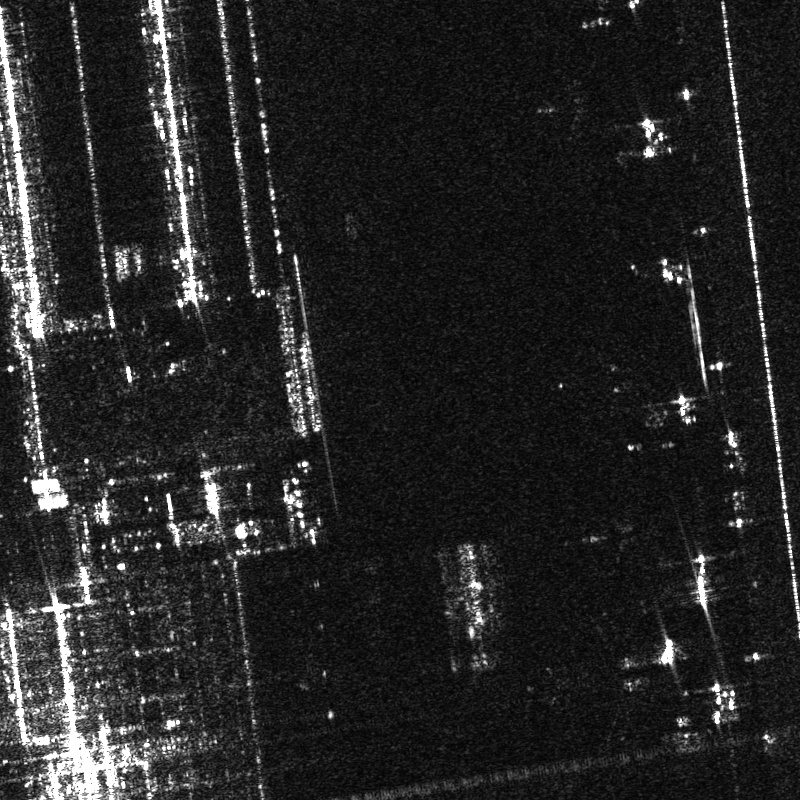A220: (562, 498, 650, 577)
A330: (545, 613, 658, 742)
Boeing787: (529, 68, 606, 144)
